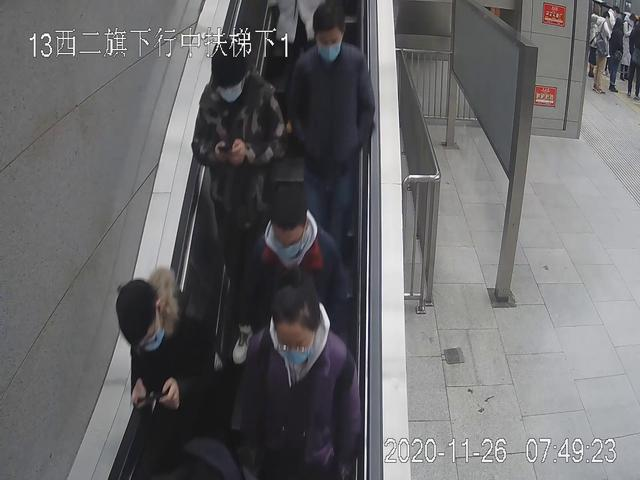person: (191, 43, 283, 367), (248, 197, 350, 443), (291, 4, 374, 303), (238, 291, 349, 480), (115, 272, 215, 480), (608, 19, 627, 94), (592, 11, 607, 94)
